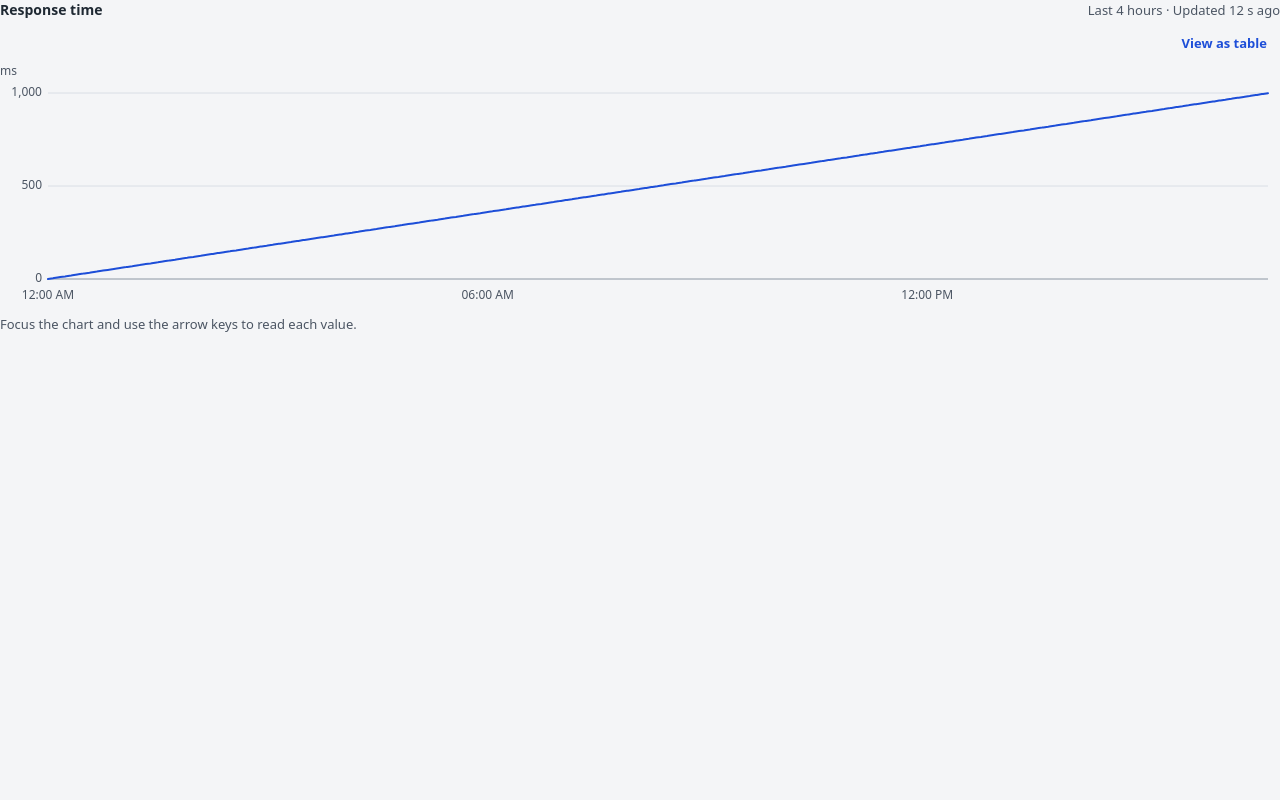
Scenario: LineChart › keeps the full data in the table view
The image size is (1280, 800).
Click the button "View as table": [1224, 43] box [1169,27,1279,59]
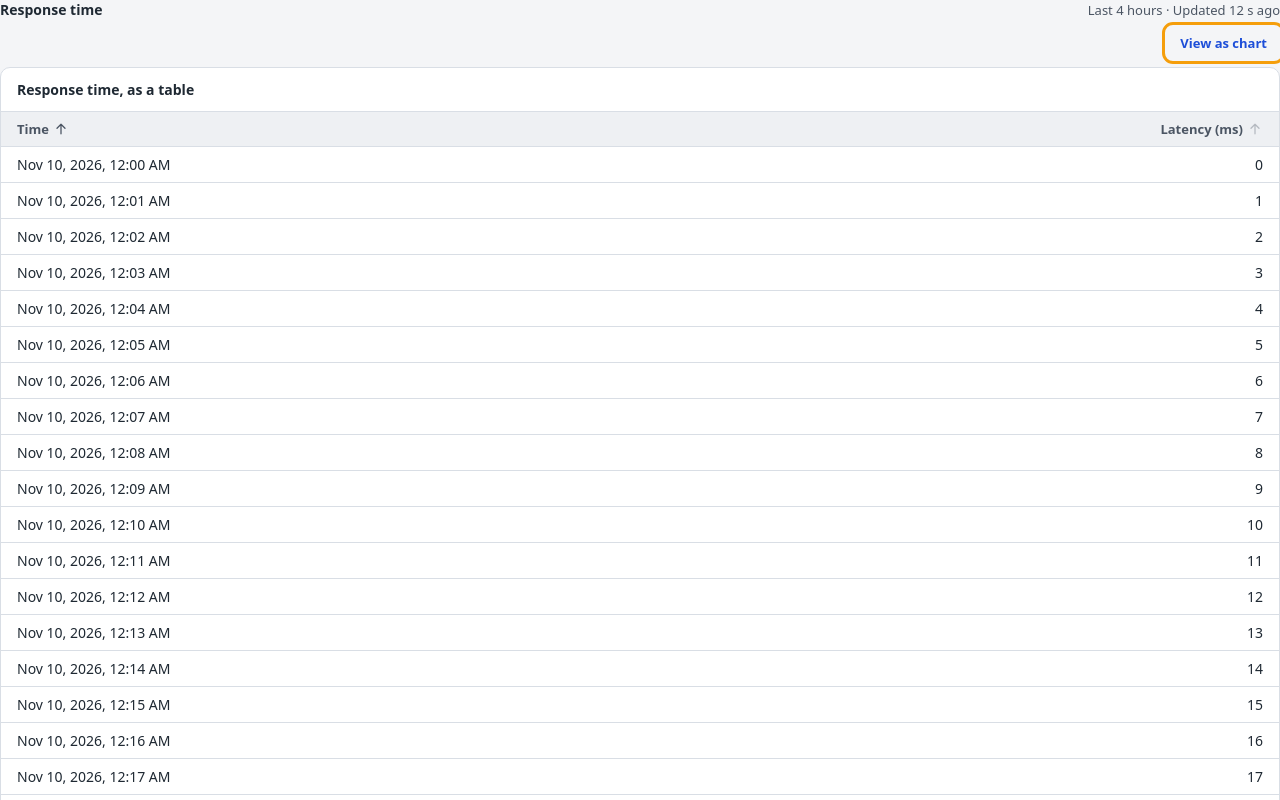
Expected: the number of rows is 1001
